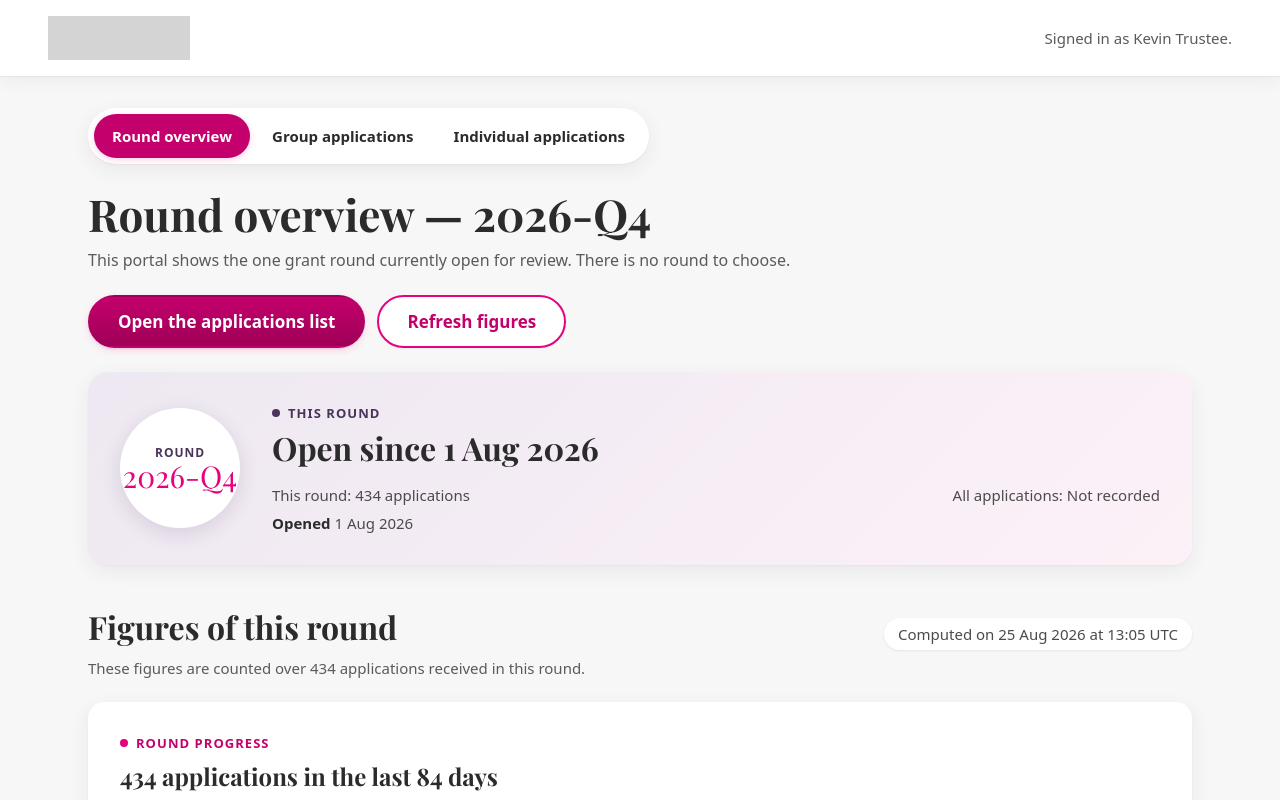
Test: App › provides a skip link and a main landmark for it to target
The image size is (1280, 800).
What coordinates should you click on to do the following:
click the button "Open the applications list"
I would click on:
 (227, 321)
Its box is [88,295,365,348].
(page scrolled)
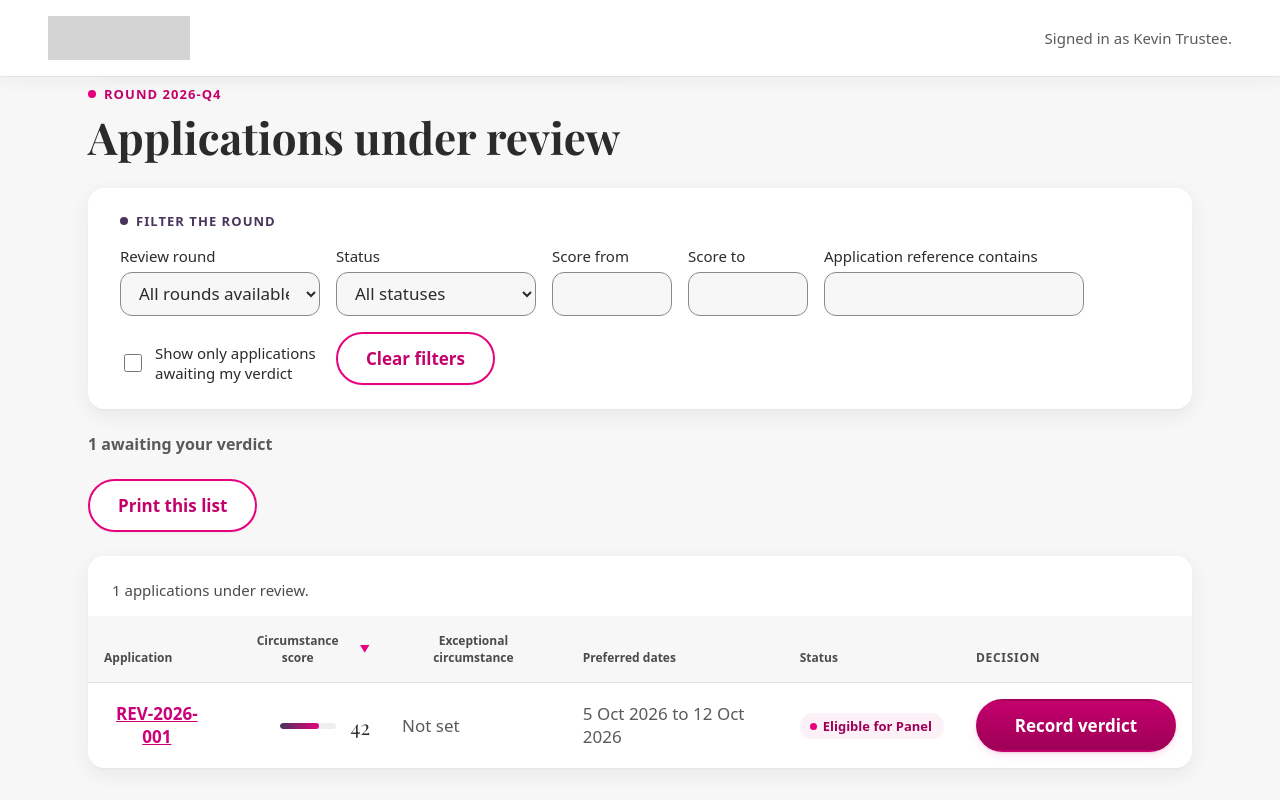
Expected: the table is shown, [88,556,1192,768]
